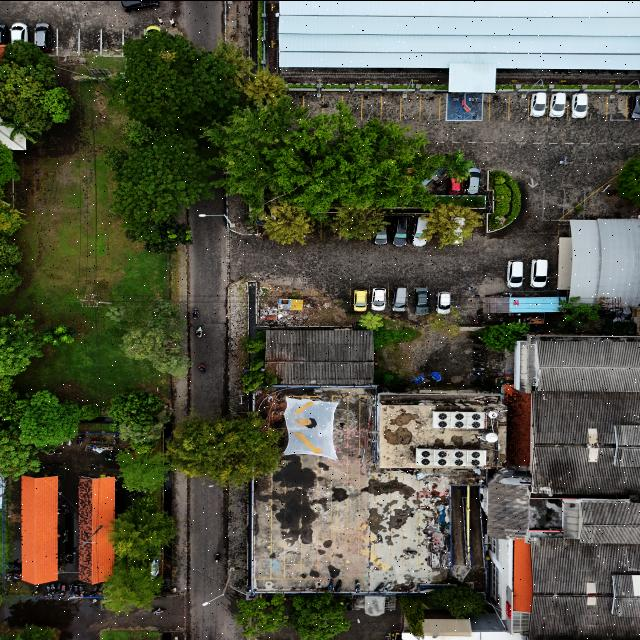Tree: (170, 414, 286, 484), (94, 496, 184, 564), (96, 562, 170, 614), (286, 586, 350, 640), (108, 447, 172, 497), (419, 198, 476, 254), (100, 384, 168, 430), (228, 592, 298, 636), (329, 197, 387, 243), (260, 198, 314, 244), (474, 318, 526, 357), (40, 318, 84, 348), (230, 366, 272, 394)
